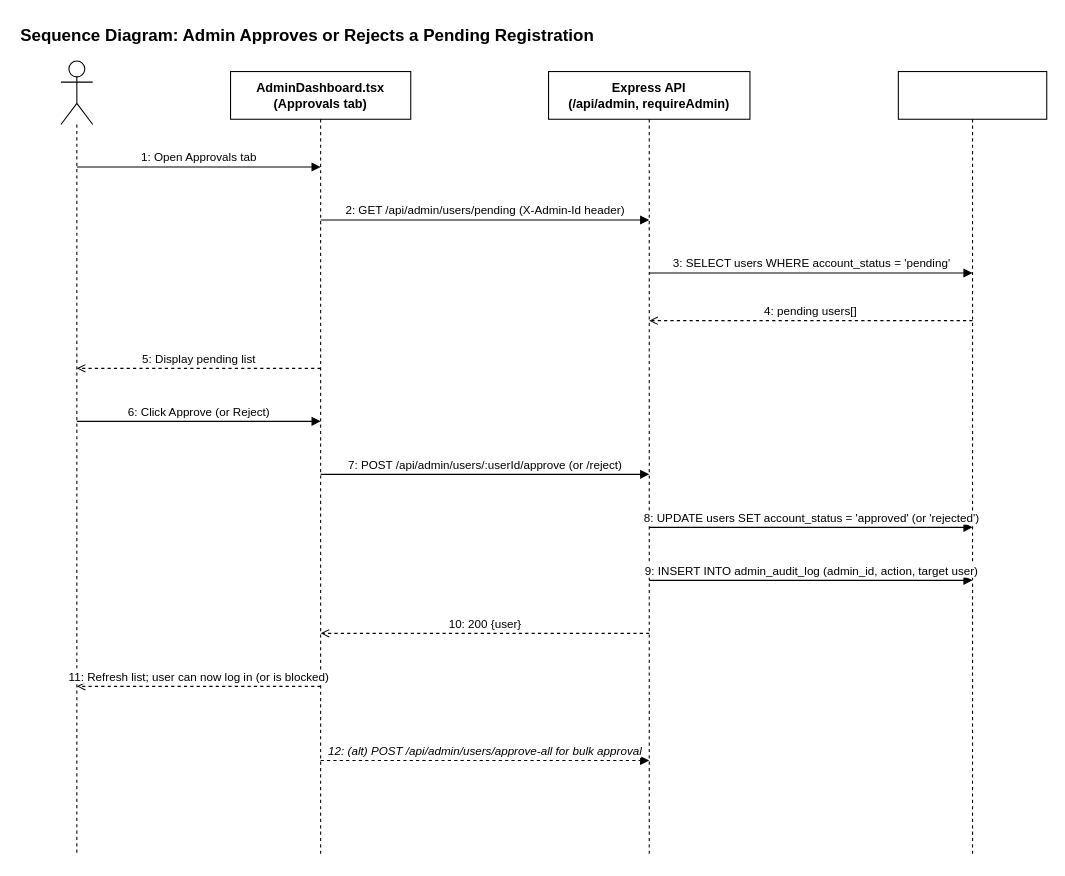
This 1065x876 diagram has some shape labels left out. The centre of each missing label's shape, as x and y in pixels:
"Admin" goes at (76,92).
"PostgreSQL" goes at (972,94).
